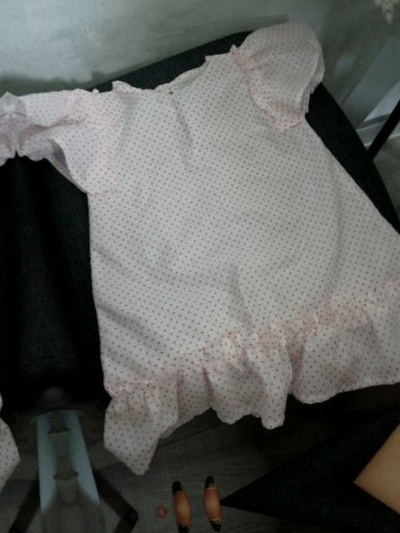Dress: (19, 0, 400, 481), (0, 41, 45, 533), (101, 512, 400, 533)
